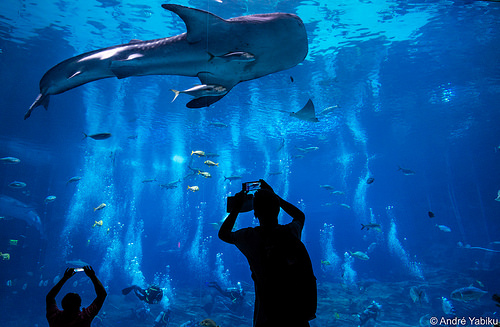shark: (18, 4, 319, 121)
